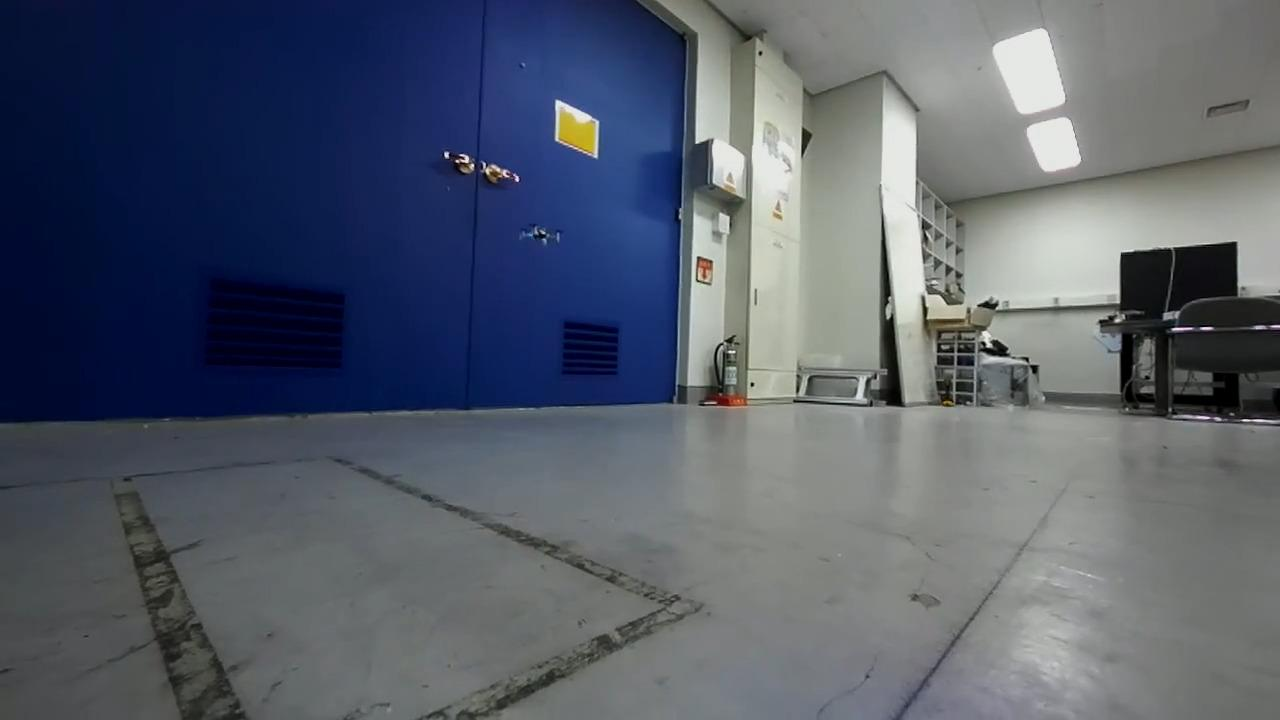crazyflie: (514, 221, 566, 248)
